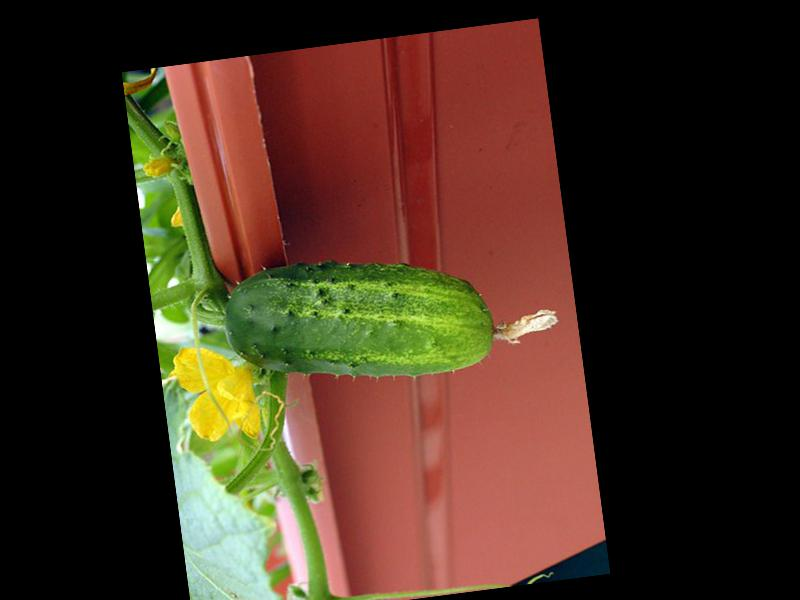Cucumber: (217, 232, 564, 401)
